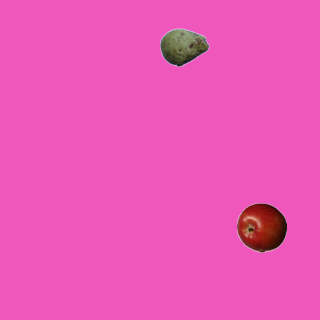Apple Braeburn: (236, 202, 286, 252)
Pear Stone: (159, 22, 209, 72)
